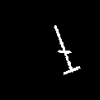double_crochet: (54, 25, 79, 73)
